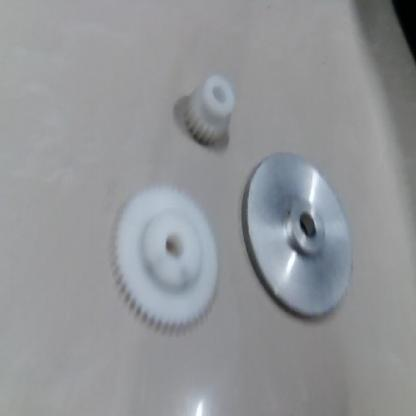FOD: (240, 147, 361, 327), (98, 181, 227, 338), (178, 73, 236, 156)
